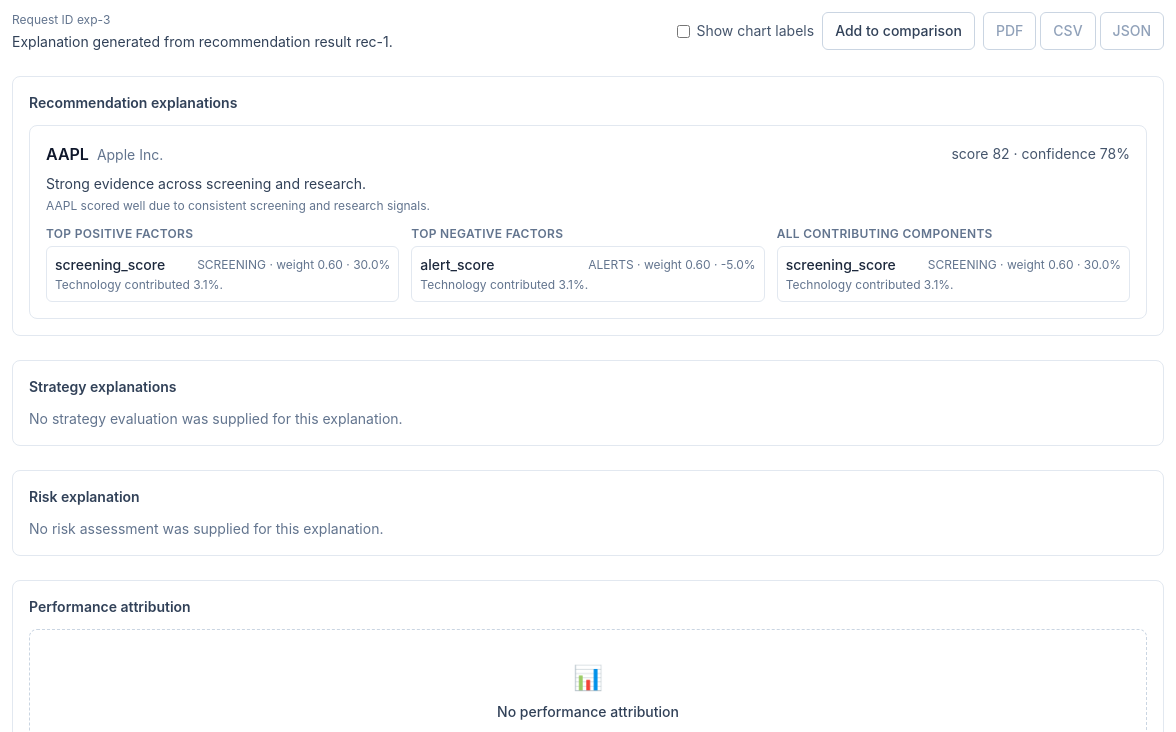
ExplainabilityResultPanel › toggles comparison selection and reveals the 'Compare selected' link once two are picked
The width and height of the screenshot is (1176, 732).
What coordinates should you click on to do the following:
click the button "Add to comparison"
I would click on:
 (899, 31)
Its box is [822, 12, 975, 50].
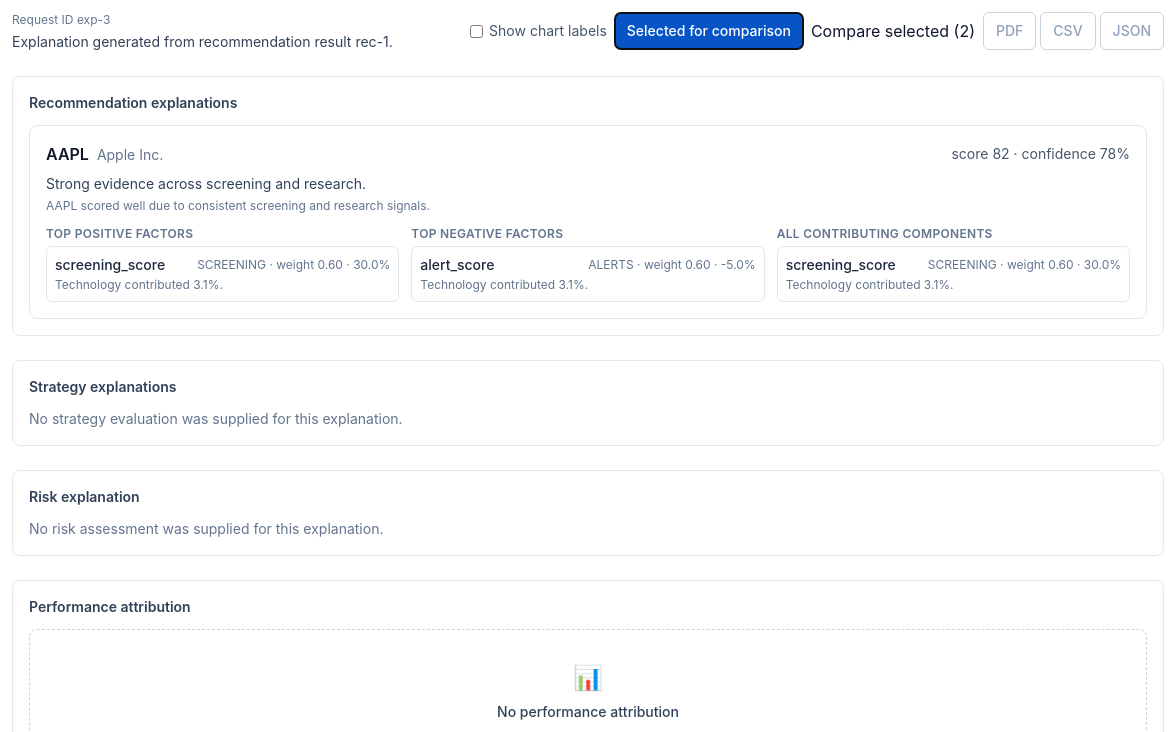
Check: the link "Compare selected (2)" is shown, box [811, 19, 975, 43]
